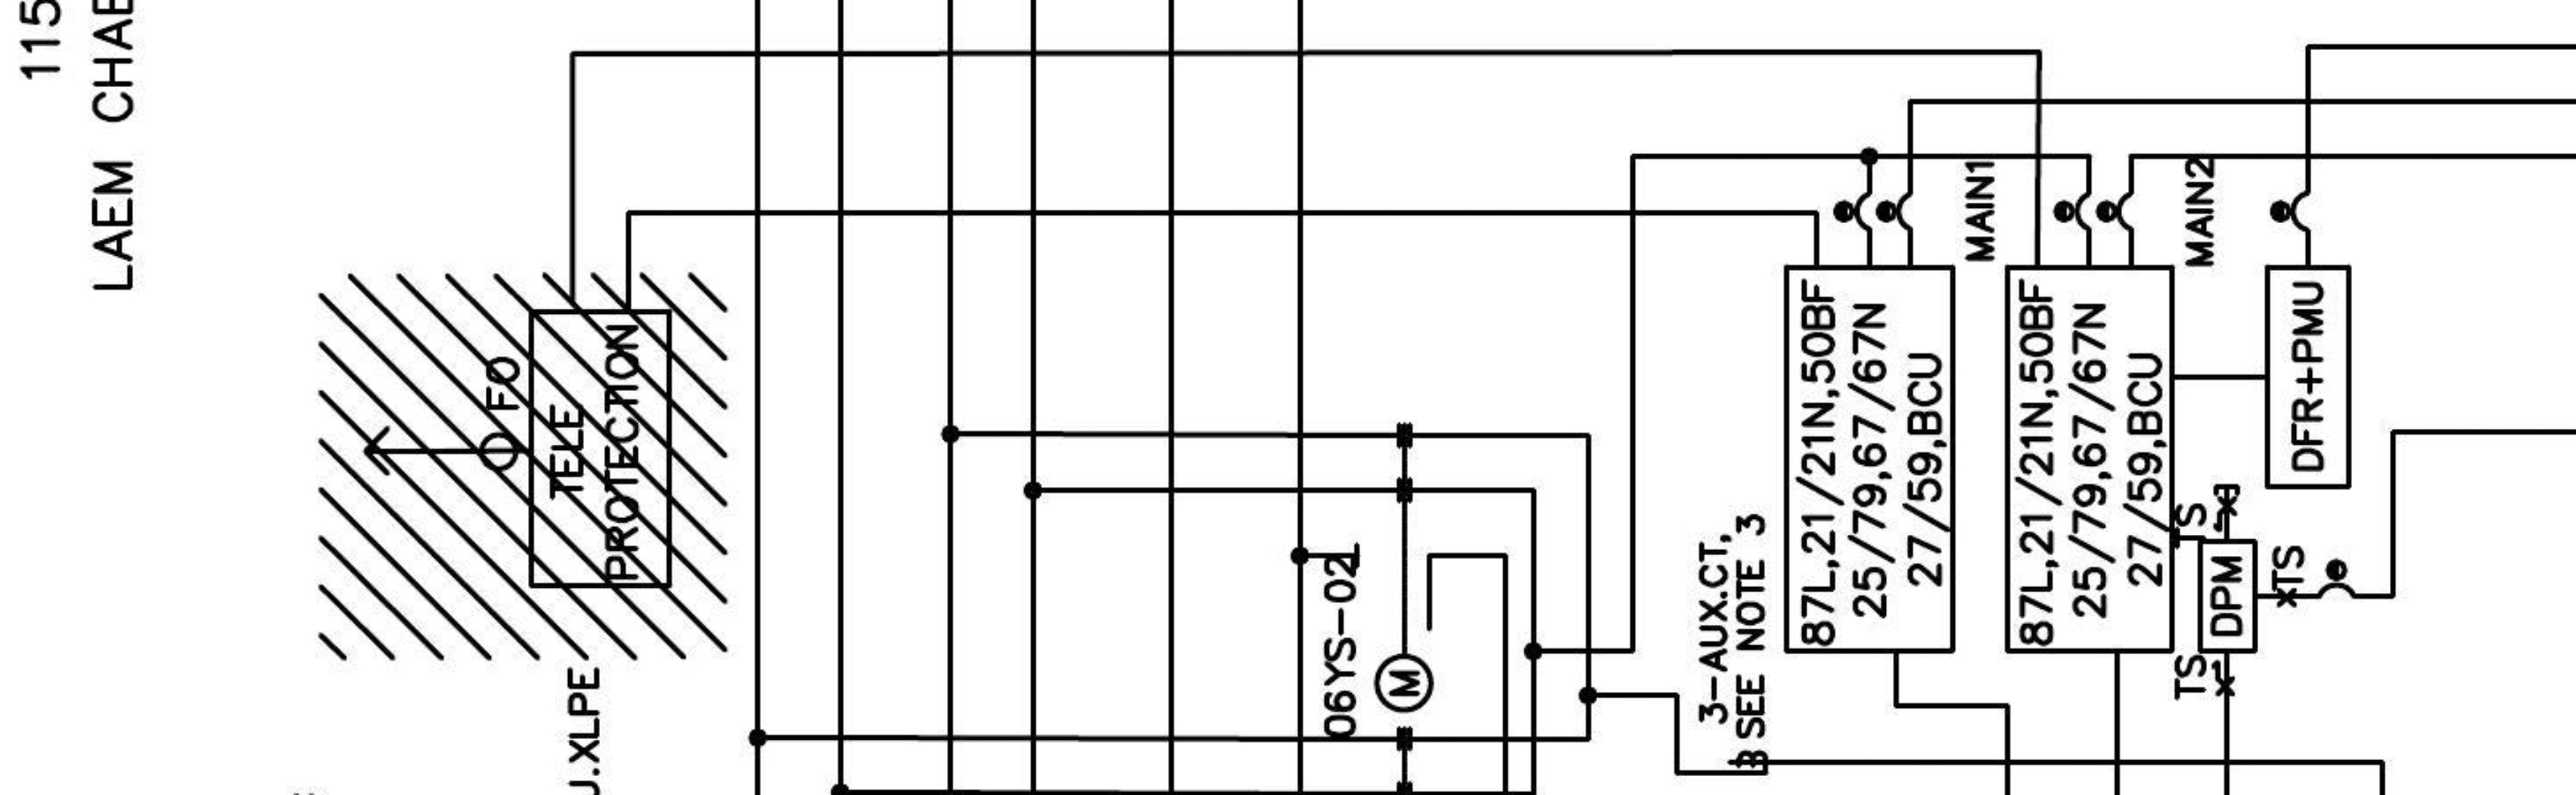115_1way_ds_w_motor: (1353, 541, 1435, 715)
DPM: (2195, 536, 2261, 656)
tele_protection: (524, 305, 677, 593)
